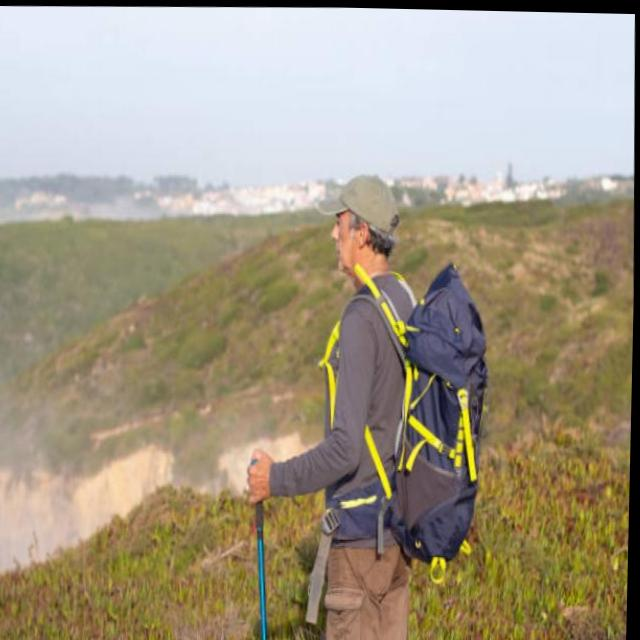no helmet: (309, 166, 408, 289)
